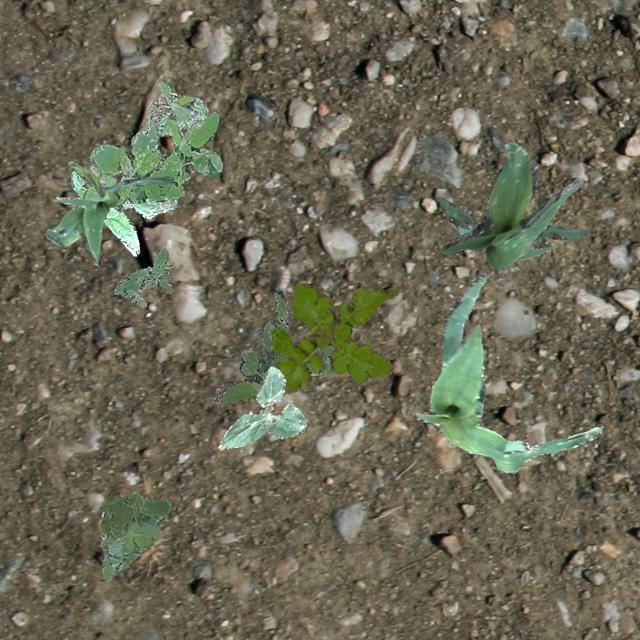crop: (414, 272, 602, 472), (442, 142, 580, 272), (44, 160, 172, 264), (434, 194, 588, 258), (216, 366, 308, 448)
weed: (212, 288, 334, 404), (270, 282, 398, 392), (90, 112, 222, 204), (70, 170, 176, 254), (99, 492, 170, 580), (114, 246, 172, 306), (146, 80, 208, 136)
